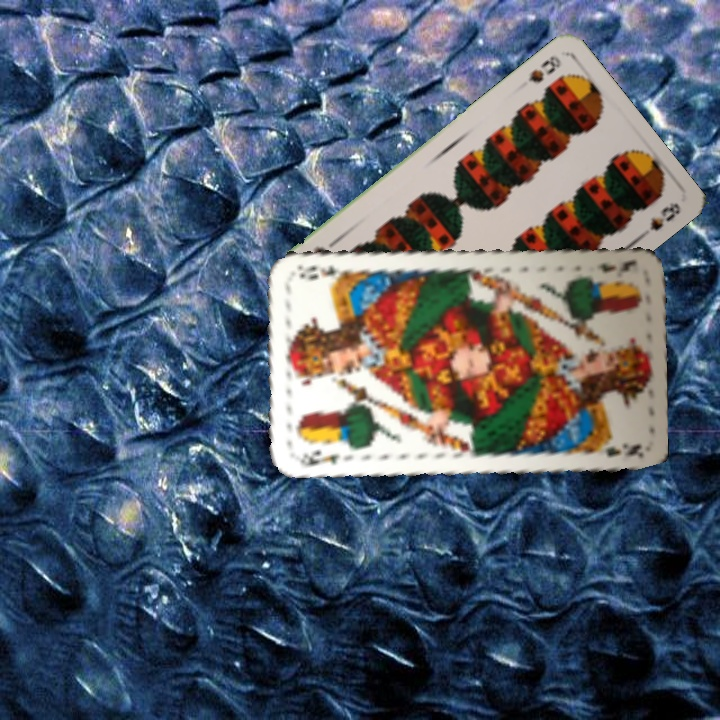EK: (296, 445, 343, 469), (593, 255, 639, 275)
S8: (524, 51, 564, 86)
